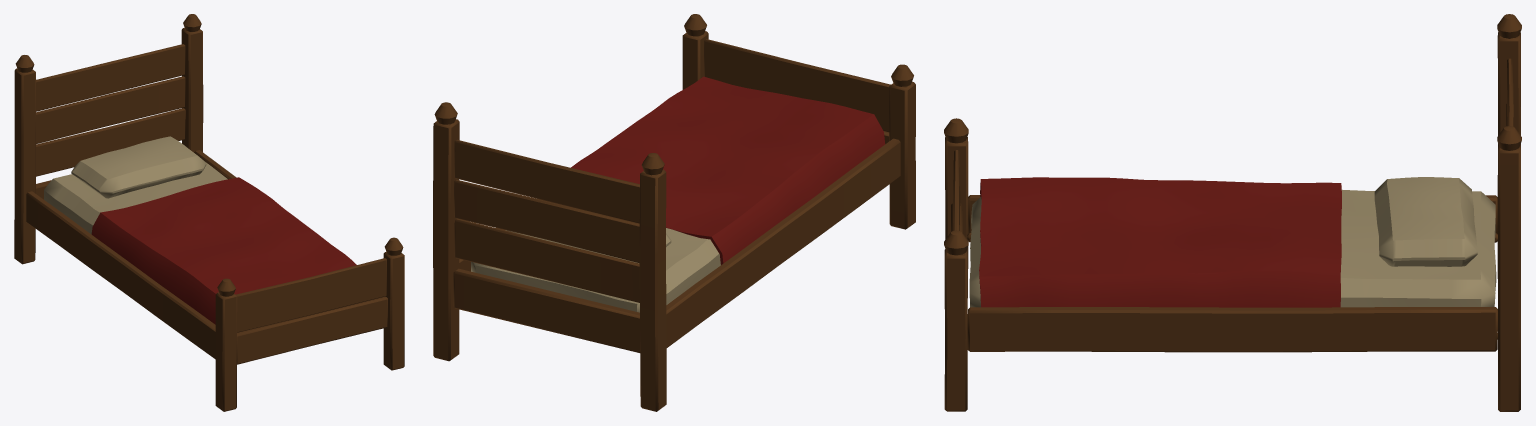
Rendered from bett.glb.
3 renders of one model, left to right at view 1: azimuth 30°, elevation 25°; view 2: azimuth 150°, elevation 25°; view 3: azimuth 270°, elevation 25°, orthographic. The views are drawn at different scales.
Visible parts, largest first — view 1: bett; view 2: bett; view 3: bett.
Part boxes in pixels (x1=…): bett: x1=14, y1=14, x2=404, y2=411; bett: x1=433, y1=14, x2=915, y2=411; bett: x1=944, y1=14, x2=1521, y2=411.
Bounding box in the file's own units: 1.01 × 1.08 × 2.01.
